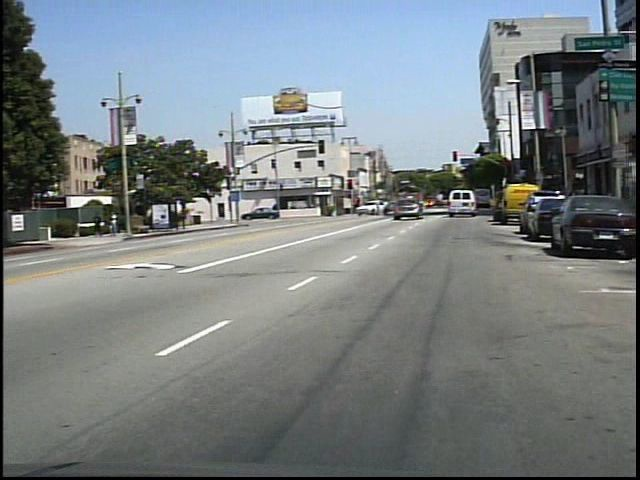person: (113, 208, 129, 241), (274, 195, 290, 222), (97, 212, 111, 239)
